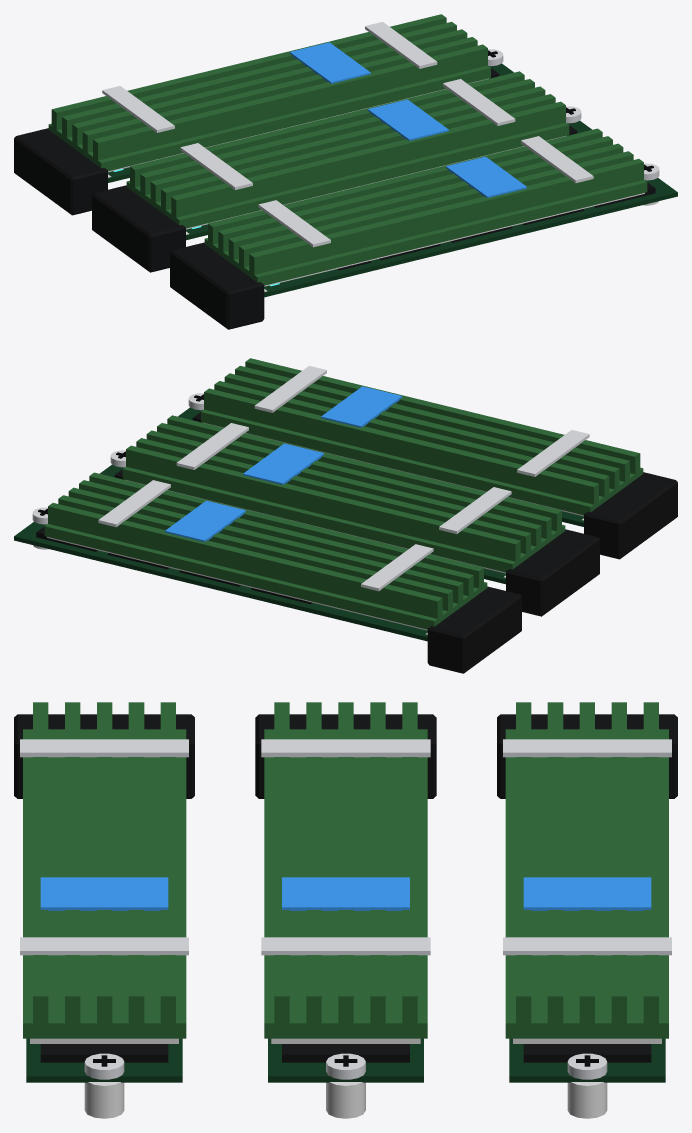
The model's file is hwm_sto_nvme4_4tb.glb.
3 renders of one model, top to bottom at view 1: azimuth 30°, elevation 25°; view 2: azimuth 150°, elevation 25°; view 3: azimuth 270°, elevation 25°, orthographic. The views are drawn at different scales.
Parts seen in each view (by area): view 1: SSD_2, SSD_0, SSD_1, Slots; view 2: SSD_0, SSD_2, SSD_1, Slots; view 3: SSD_0, SSD_2, SSD_1, Slots, Screw_0, Screw_2, Screw_1.
Part boxes in pixels (<box>): SSD_2: <box>204,128,677,297</box>; SSD_0: <box>48,14,513,182</box>; SSD_1: <box>126,71,591,240</box>; Slots: <box>14,63,658,329</box>; SSD_0: <box>14,472,487,641</box>; SSD_2: <box>178,358,643,526</box>; SSD_1: <box>100,415,565,584</box>; Slots: <box>33,407,677,673</box>; SSD_0: <box>503,702,671,1082</box>; SSD_2: <box>20,702,188,1082</box>; SSD_1: <box>261,702,430,1082</box>; Slots: <box>14,714,677,1118</box>; Screw_0: <box>567,1053,607,1079</box>; Screw_2: <box>84,1053,124,1079</box>; Screw_1: <box>326,1053,365,1079</box>.
Bounding box in the file's own units: 0.1155 × 0.0154 × 0.0935.
